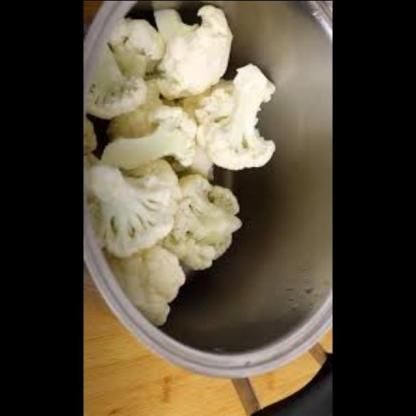cayliflower: (84, 0, 289, 324)
